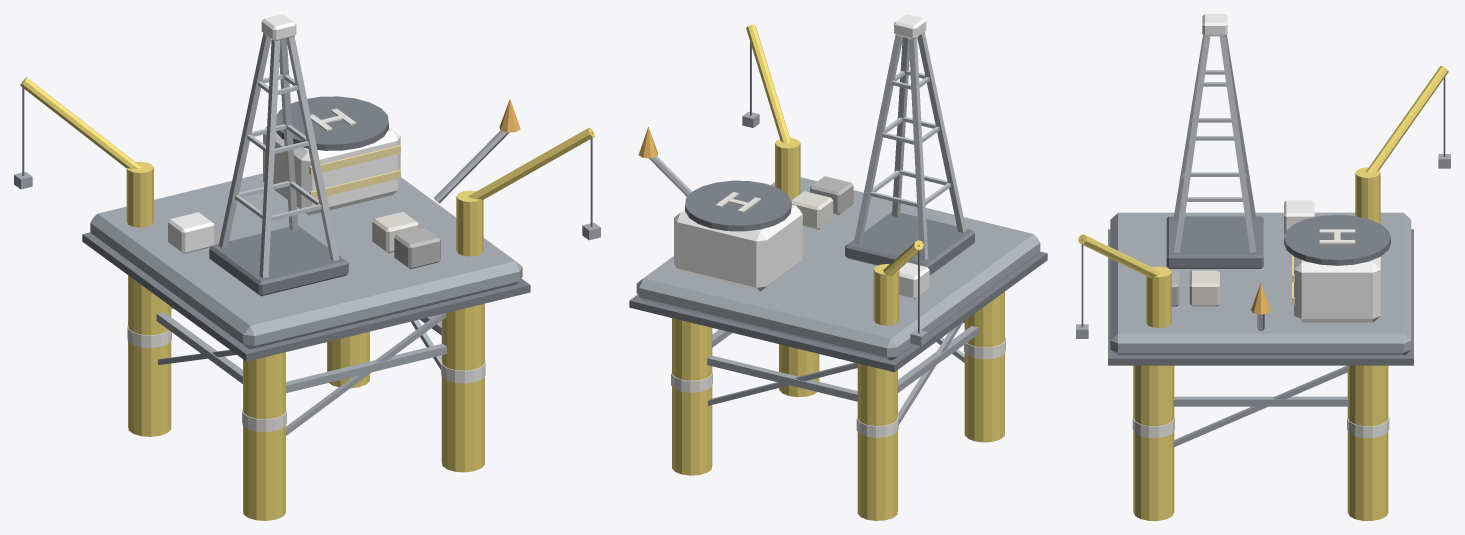
File: rig.glb
3 renders of one model, left to right at view 1: azimuth 30°, elevation 25°; view 2: azimuth 150°, elevation 25°; view 3: azimuth 270°, elevation 25°, orthographic. The views are drawn at different scales.
Visible parts, largest first — view 1: main; view 2: main; view 3: main.
Boxes of the visible parts, bbox=[...] form: main: bbox=[14, 14, 600, 520]; main: bbox=[629, 14, 1047, 520]; main: bbox=[1076, 14, 1450, 520].
Size of the model in its own units: 1.7 by 1.84 by 1.47.
